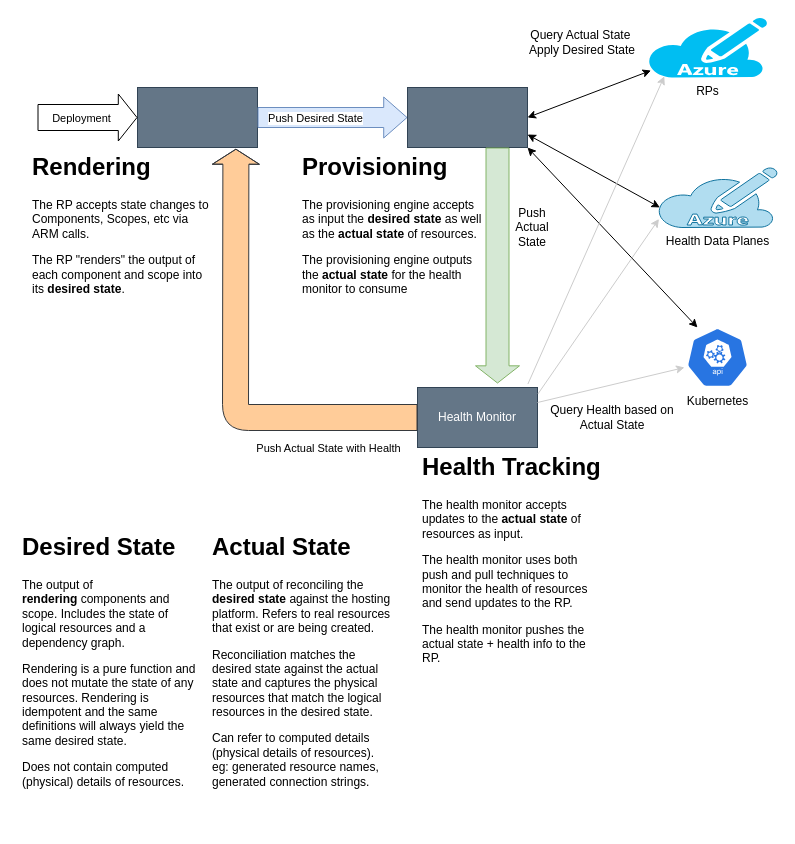
Image size: 795x844. Some labels were removed from this diagram. Each missing label, with the centre of its shape:
"Provisioning Engine" belongs at [467,117].
"RP" belongs at [197,117].
